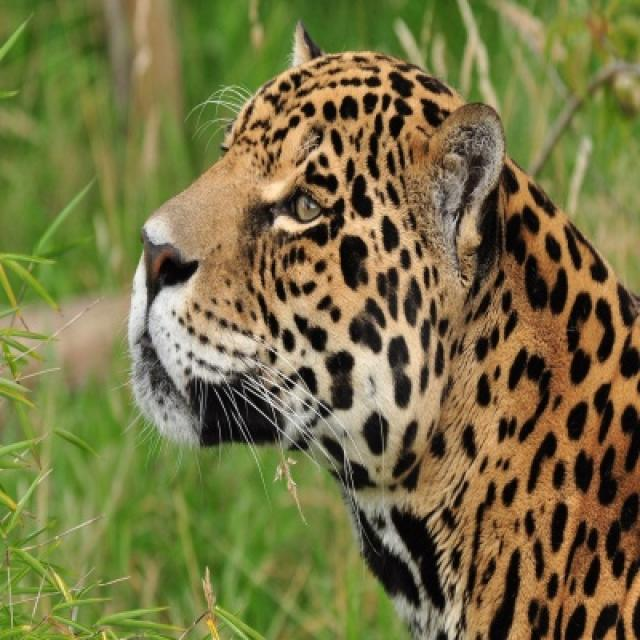Jaguar: (126, 51, 638, 638)
